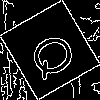Q: (24, 25, 87, 83)
